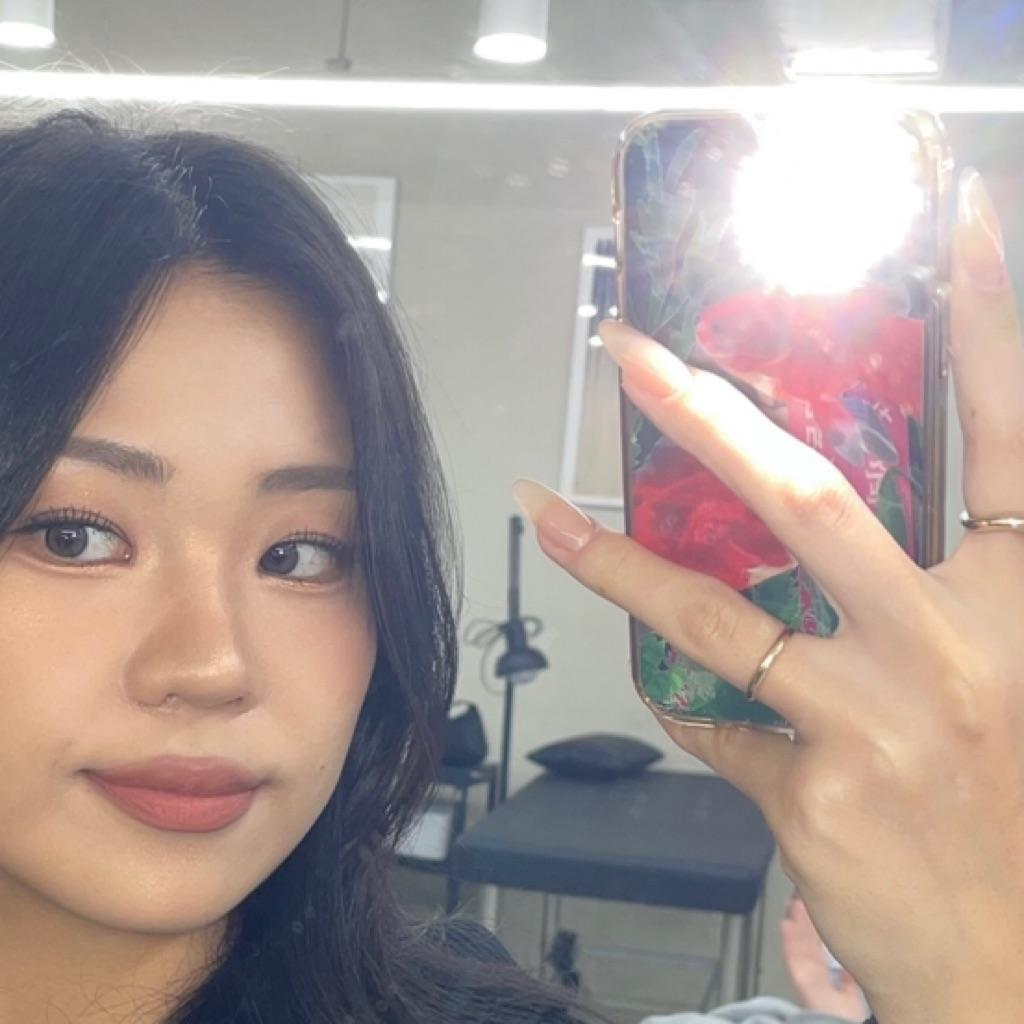nail: (596, 316, 691, 401), (510, 476, 594, 554)
